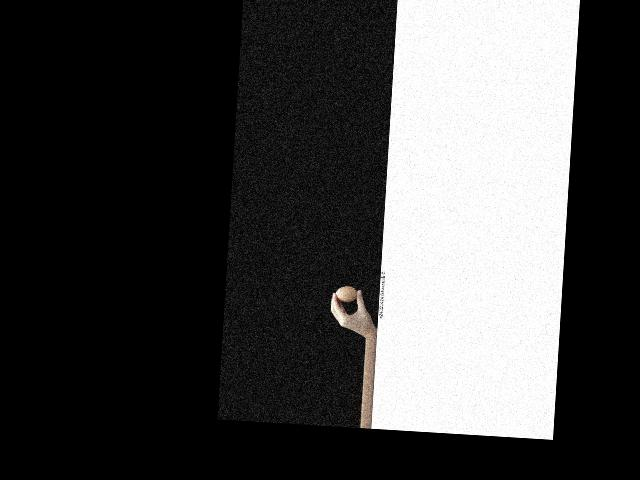egg: (335, 285, 357, 302)
